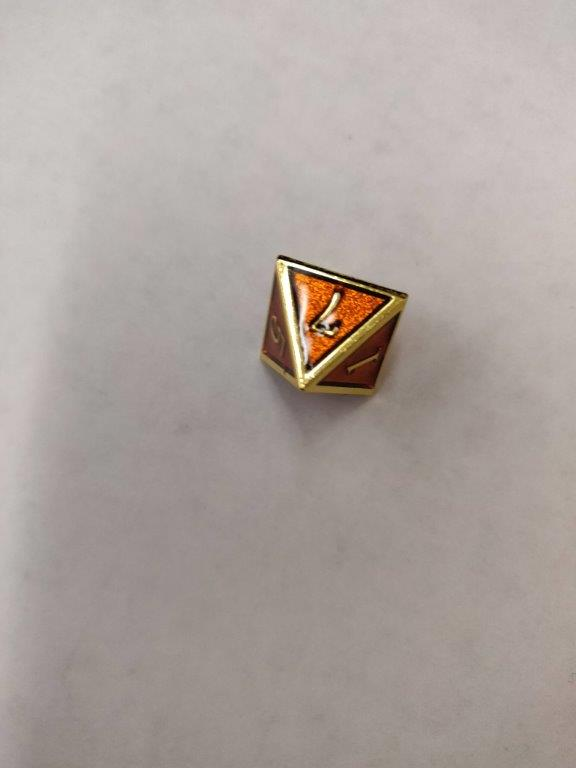d8-7: (253, 251, 410, 402)
